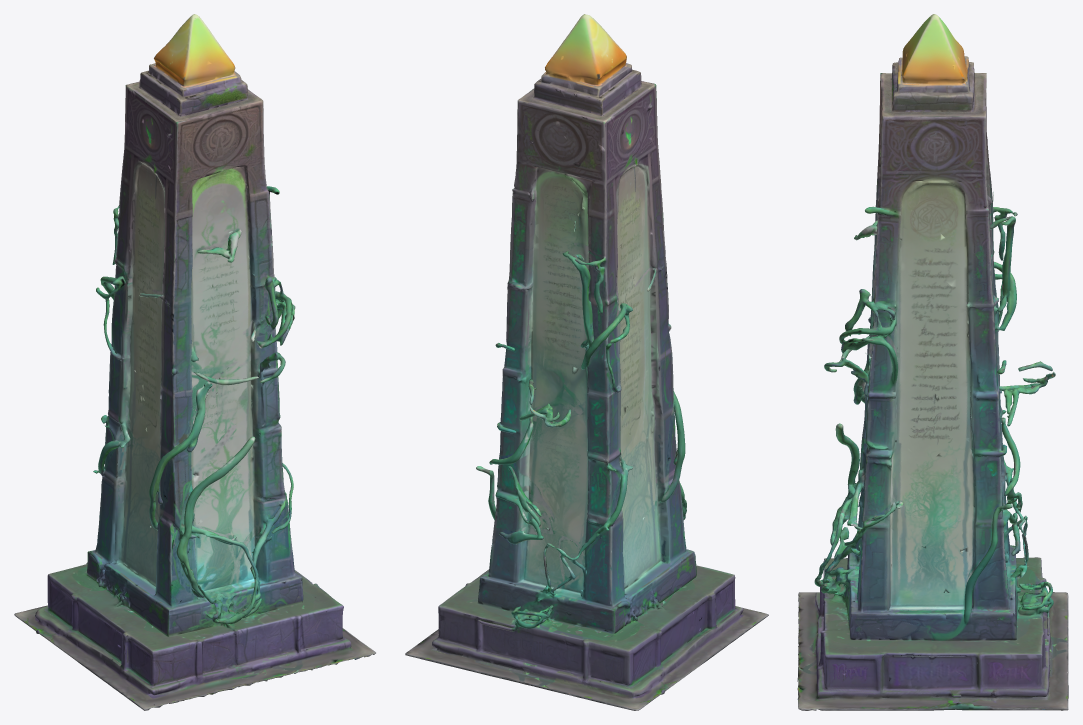
File: “A_large_unique_ma_0721160123_texture.glb
3 views of the same model, side by side, from view 1: azimuth 30°, elevation 25°; view 2: azimuth 150°, elevation 25°; view 3: azimuth 270°, elevation 25° (orthographic). The views are drawn at different scales.
Size of the model in its own units: 0.795 by 2 by 0.7705.
1 material, 1 textured.
